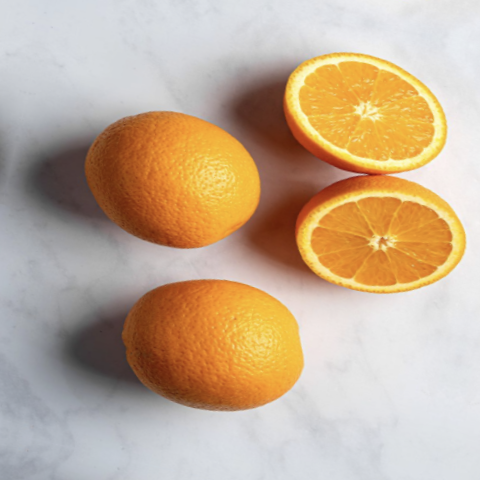orange: (104, 247, 325, 436), (72, 84, 282, 275)
